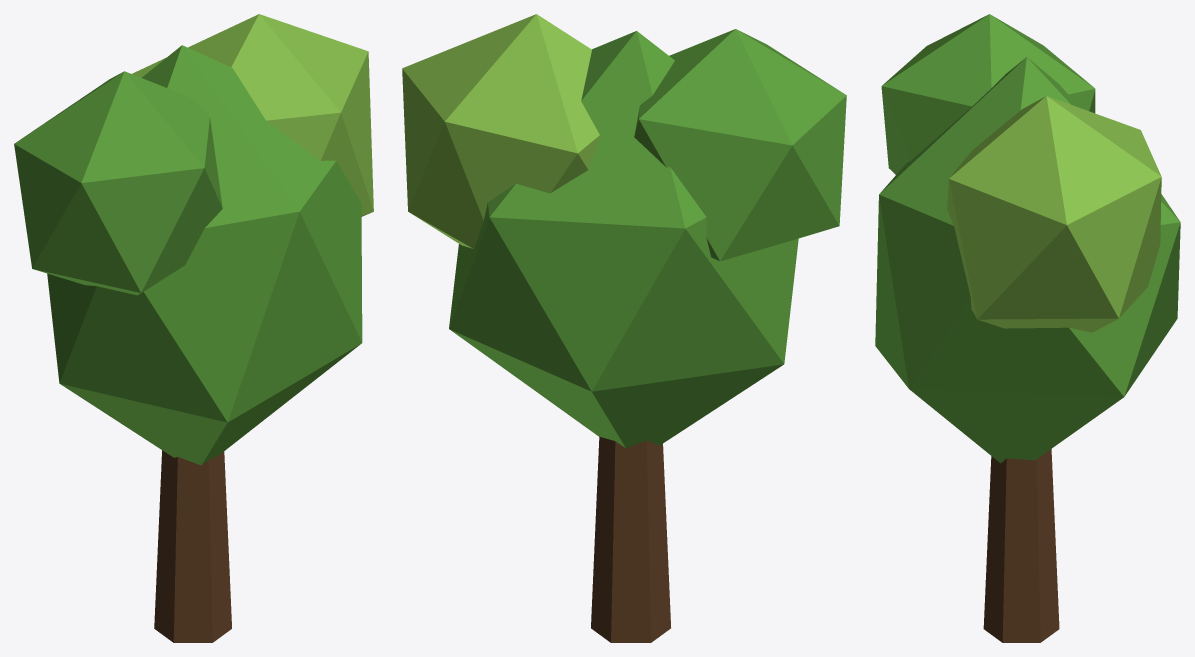
The model's file is round_tree.glb.
The picture shows the model from 3 angles, left to right: view 1: azimuth 30°, elevation 25°; view 2: azimuth 150°, elevation 25°; view 3: azimuth 270°, elevation 25°; orthographic projection. The views are drawn at different scales.
Parts seen in each view (by area): view 1: round_tree; view 2: round_tree; view 3: round_tree.
Part boxes in pixels (x1=…): round_tree: x1=14, y1=14, x2=373, y2=642; round_tree: x1=402, y1=14, x2=846, y2=642; round_tree: x1=875, y1=14, x2=1180, y2=642.
Size of the model in its own units: 2.26 by 3.34 by 1.61.
